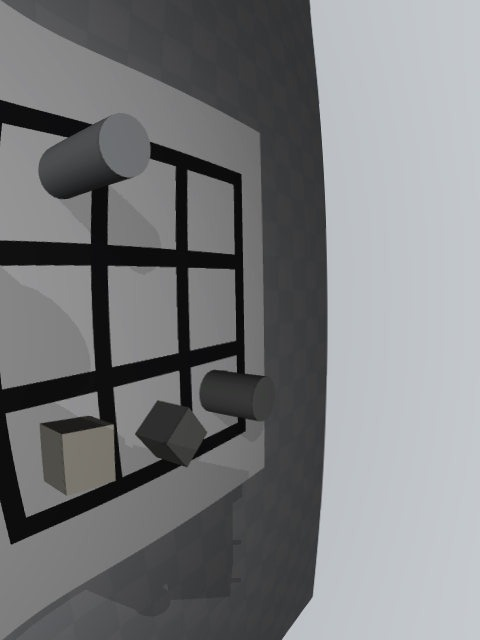can: (38, 113, 151, 199)
cube: (135, 400, 207, 467)
cylinder: (199, 370, 276, 421)
foam: (40, 416, 116, 496)
